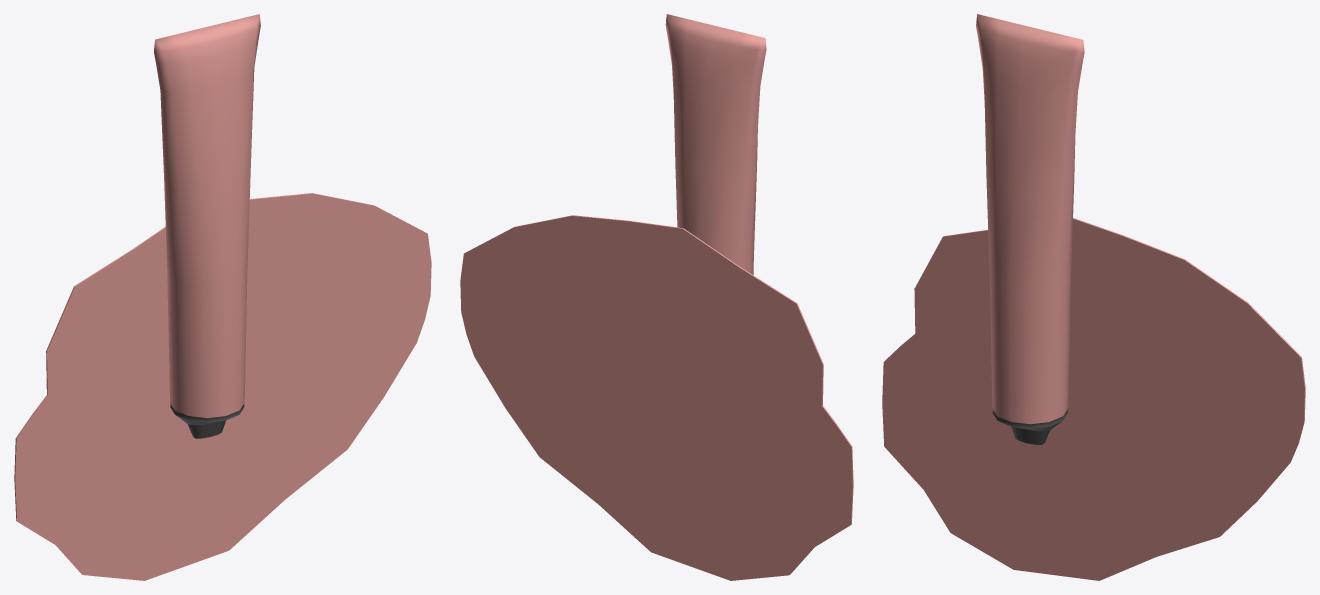
File: Maquiagem_HidLabial_Ruim.fbx
3 views of the same model, side by side, from view 1: azimuth 30°, elevation 25°; view 2: azimuth 150°, elevation 25°; view 3: azimuth 330°, elevation 25° (orthographic). The views are drawn at different scales.
Parts seen in each view (by area): view 1: Maquiagem_HidLabial_Ruim; view 2: Maquiagem_HidLabial_Ruim; view 3: Maquiagem_HidLabial_Ruim.
Boxes of the visible parts, x1=… form: Maquiagem_HidLabial_Ruim: x1=14, y1=14, x2=431, y2=580; Maquiagem_HidLabial_Ruim: x1=460, y1=14, x2=853, y2=580; Maquiagem_HidLabial_Ruim: x1=882, y1=14, x2=1305, y2=580.
Bounding box in the file's own units: 26.13 × 33.67 × 4.64.
